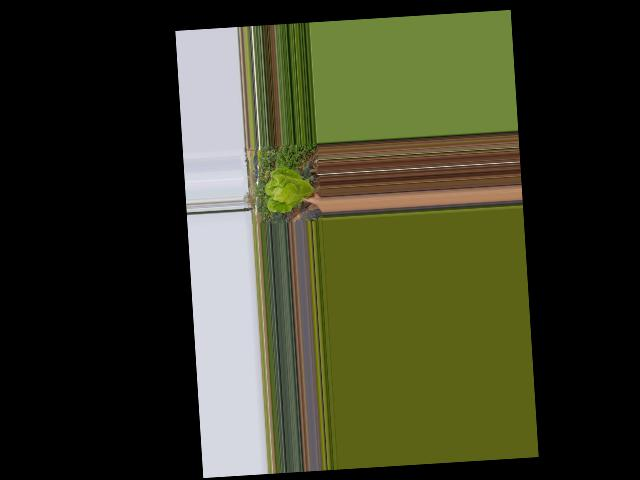lettuce: (263, 163, 318, 216)
